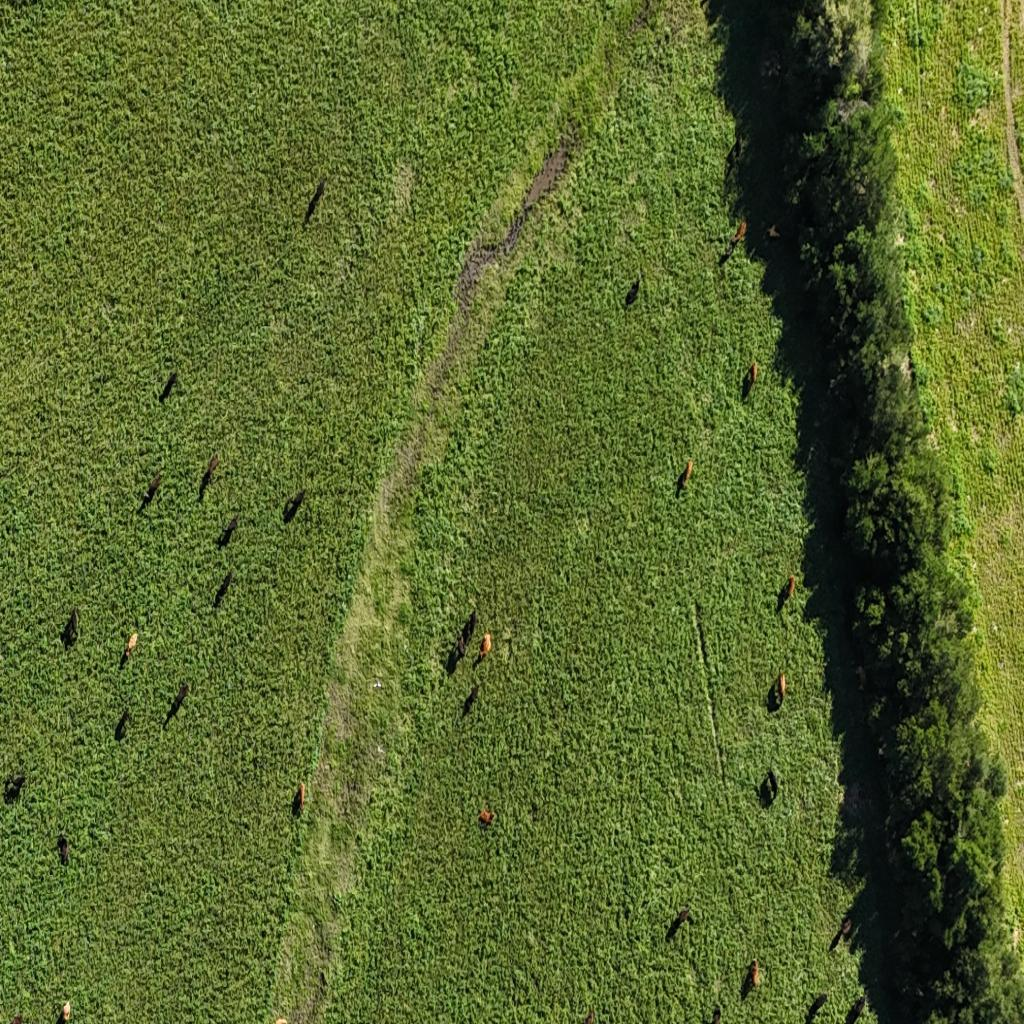cow: (620, 273, 648, 320), (304, 178, 327, 224), (140, 469, 164, 513), (60, 607, 80, 649), (667, 905, 691, 940), (218, 514, 240, 548), (120, 630, 139, 668), (283, 490, 305, 522), (158, 371, 179, 404), (215, 568, 234, 604), (5, 773, 27, 804), (172, 679, 190, 715), (771, 670, 787, 710), (847, 992, 866, 1024), (838, 912, 857, 944), (724, 134, 739, 174), (780, 572, 796, 608), (114, 709, 130, 743), (204, 452, 220, 486), (464, 683, 480, 716), (476, 629, 492, 662), (746, 958, 760, 994), (732, 220, 748, 250), (57, 833, 71, 866), (746, 361, 760, 394), (292, 782, 305, 817), (679, 458, 693, 490), (765, 767, 779, 799), (55, 999, 72, 1024), (466, 611, 479, 641), (479, 806, 497, 827), (1009, 923, 1022, 951), (456, 630, 467, 660), (581, 1008, 596, 1024), (711, 1006, 722, 1024), (1019, 926, 1024, 950), (274, 1016, 288, 1024)
